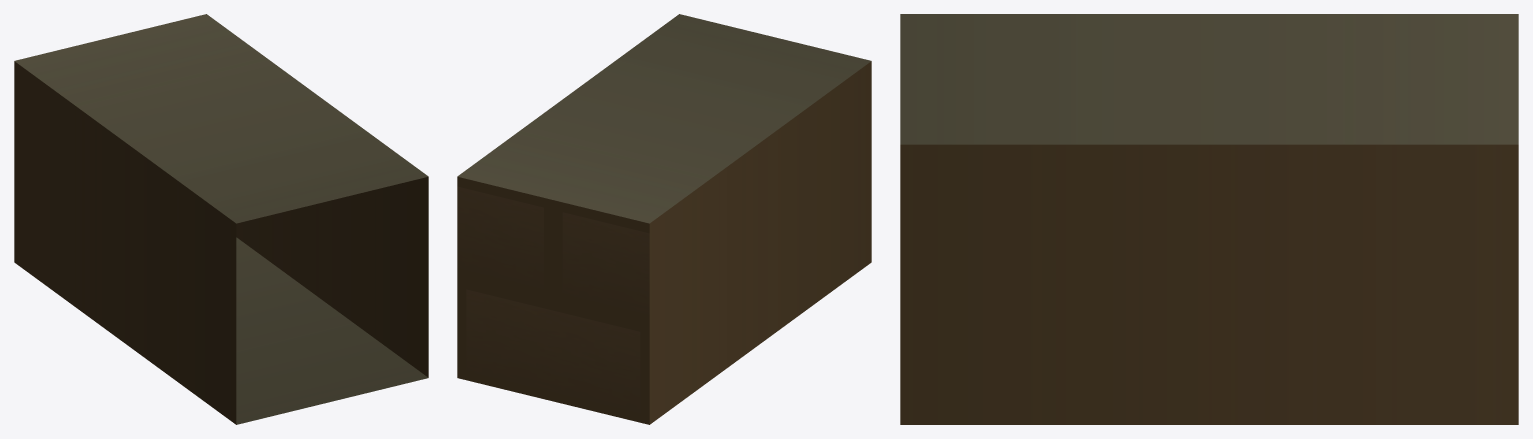
The model's file is SM_Backgroundblock3Level1.fbx.
3 views of the same model, side by side, from view 1: azimuth 30°, elevation 25°; view 2: azimuth 150°, elevation 25°; view 3: azimuth 270°, elevation 25° (orthographic). The views are drawn at different scales.
Parts seen in each view (by area): view 1: SM_Backgroundblock3Level1; view 2: SM_Backgroundblock3Level1; view 3: SM_Backgroundblock3Level1.
Boxes of the visible parts, <box> form: SM_Backgroundblock3Level1: <box>14,14,428,424</box>; SM_Backgroundblock3Level1: <box>457,14,871,424</box>; SM_Backgroundblock3Level1: <box>900,14,1518,424</box>.
Size of the model in its own units: 100 by 200 by 100.
